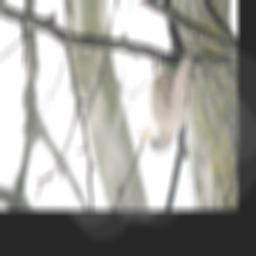Cuckoo: (138, 48, 195, 154)
